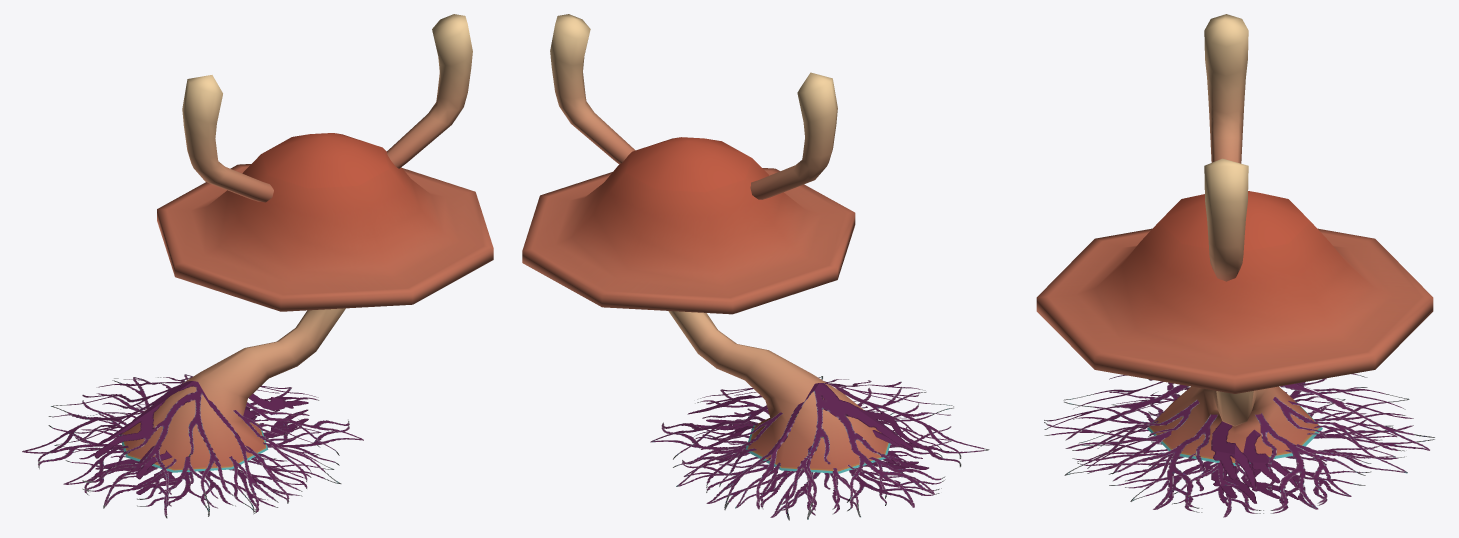
Rendered from Mushroom2.fbx.
The picture shows the model from 3 angles, left to right: view 1: azimuth 30°, elevation 25°; view 2: azimuth 150°, elevation 25°; view 3: azimuth 270°, elevation 25°; orthographic projection. The views are drawn at different scales.
Parts seen in each view (by area): view 1: Circle.002; view 2: Circle.002; view 3: Circle.002.
Boxes of the visible parts, x1,y1,x2,y2 form: Circle.002: (22,14,493,518); Circle.002: (522,14,989,520); Circle.002: (1036,14,1434,517).
Bounding box in the file's own units: 1109 × 921 × 804.
